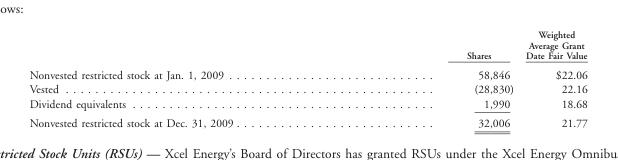table: (28, 29, 586, 129)
table column: (28, 29, 349, 129), (349, 29, 519, 129), (519, 29, 586, 129)
table column header: (28, 29, 586, 64)
table row: (28, 29, 586, 64), (28, 64, 586, 81), (28, 112, 586, 129), (28, 96, 586, 112), (28, 81, 586, 96)
